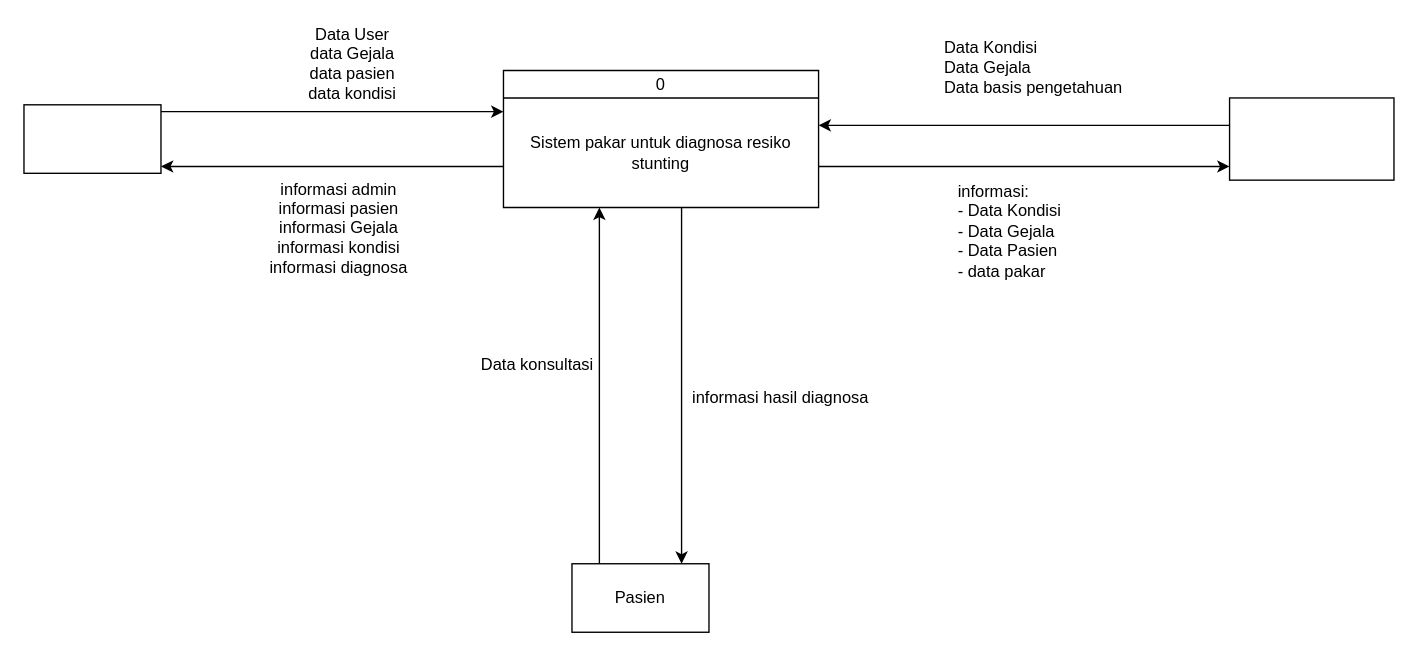
Some shapes in this 1418 by 656 pixel diagram are drawn without their labels. The box of each missing label's shape, as (x1, y1, x2, y2) in pixels:
Admin: (23, 103, 161, 173)
Pakar: (1228, 97, 1394, 180)
